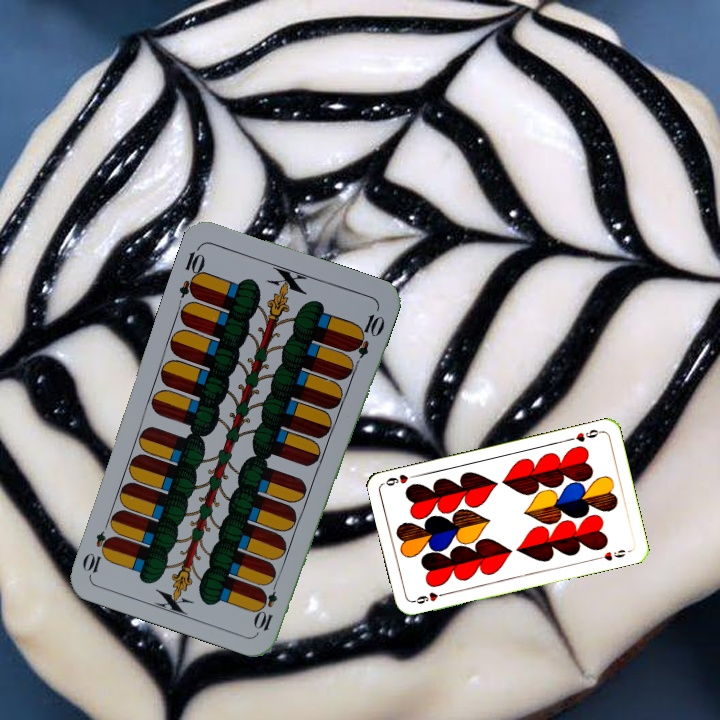E10: (175, 242, 208, 301), (252, 575, 281, 634)
H9: (564, 425, 604, 444), (409, 588, 449, 607)
